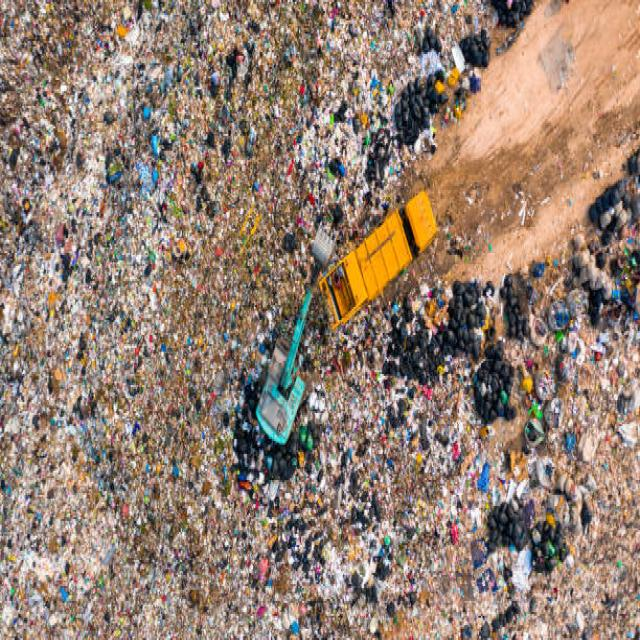plastic: (13, 78, 252, 564)
